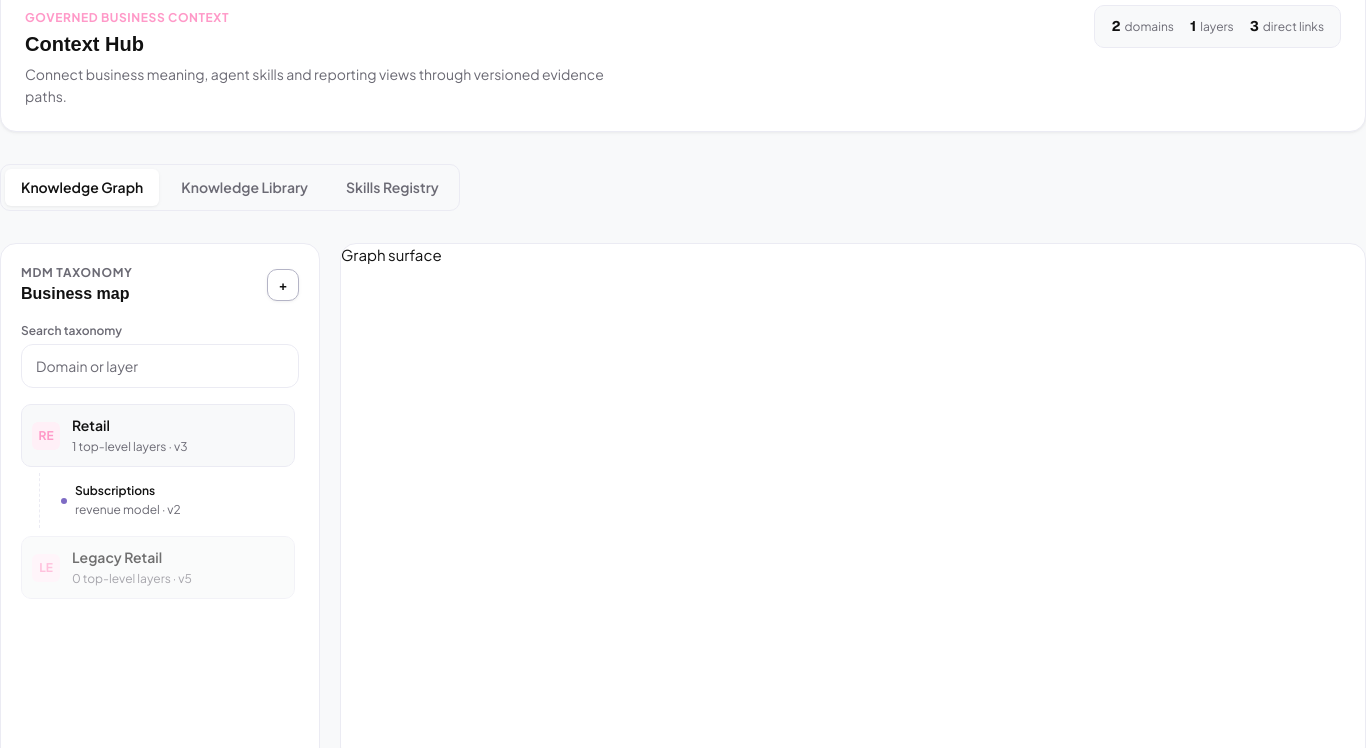
Test: headlines a link with the target's name from the graph already in memory
Click the button "RE Retail 1 top-level layers · v3": (91, 425) top-left (21, 404), bottom-right (295, 467)
(page scrolled)
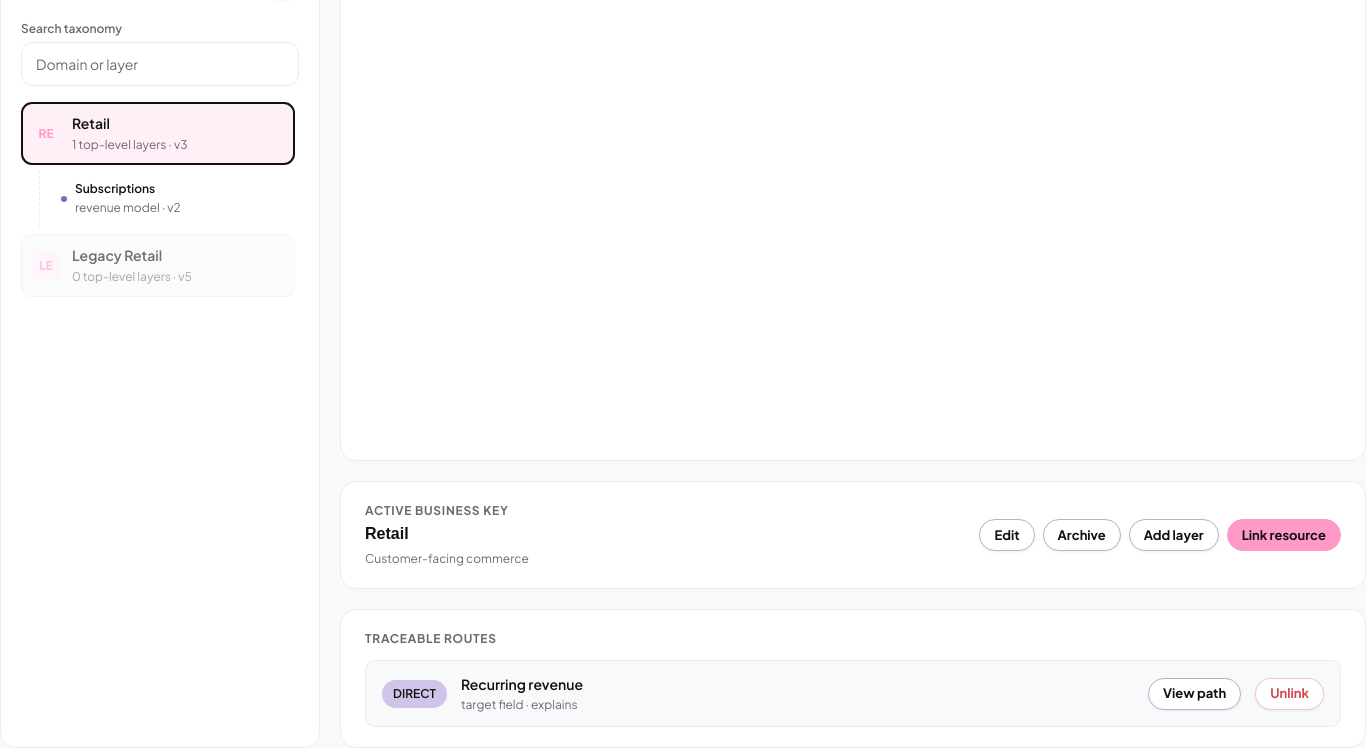
Now the text "Recurring revenue" is shown, box top-left (461, 675), bottom-right (583, 693)
Now the text "Recurring revenue" shows "target field", box top-left (461, 697), bottom-right (524, 712)
Now the text "Recurring revenue" shows "explains", box top-left (531, 697), bottom-right (578, 712)
